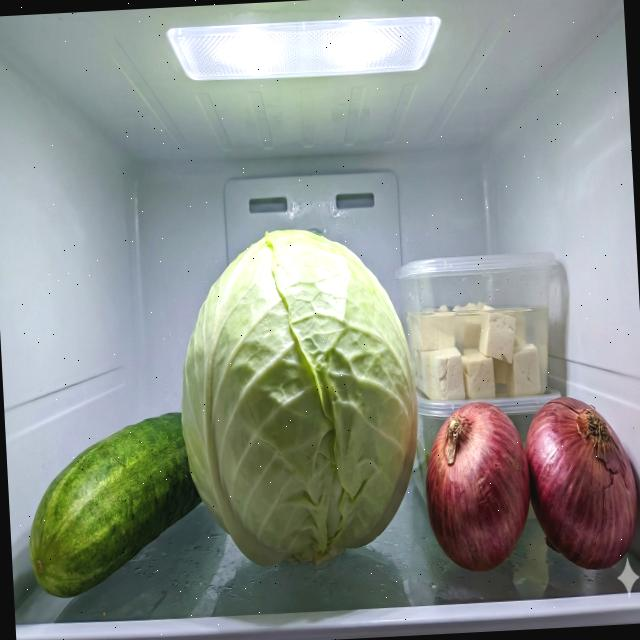cabbage: (172, 222, 426, 572)
cucumber: (22, 406, 208, 602)
onion: (420, 392, 640, 578)
tofu: (406, 298, 544, 405)
